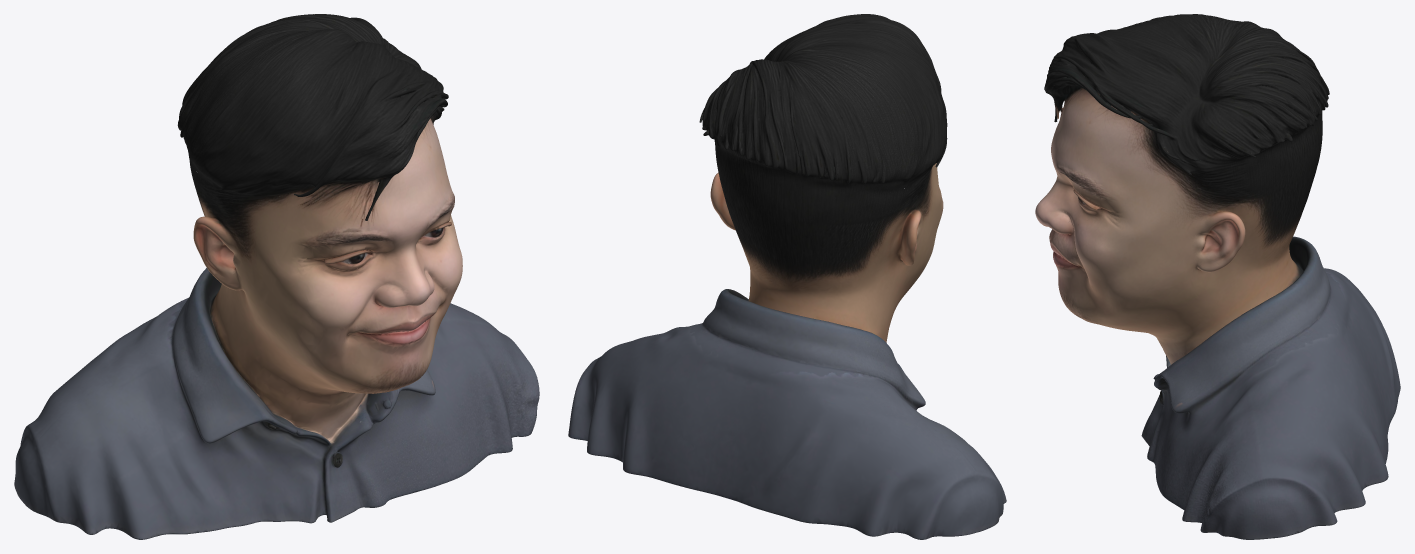
File: mark-headshot.glb
The picture shows the model from 3 angles, left to right: view 1: azimuth 30°, elevation 25°; view 2: azimuth 150°, elevation 25°; view 3: azimuth 270°, elevation 25°; orthographic projection. The views are drawn at different scales.
Visible parts, largest first — view 1: tripo_node_e540df64-d8e8-4c29-a4cd-a1805e1cffb5; view 2: tripo_node_e540df64-d8e8-4c29-a4cd-a1805e1cffb5; view 3: tripo_node_e540df64-d8e8-4c29-a4cd-a1805e1cffb5.
Boxes of the visible parts, x1,y1,x2,y2 form: tripo_node_e540df64-d8e8-4c29-a4cd-a1805e1cffb5: (14,14,539,539); tripo_node_e540df64-d8e8-4c29-a4cd-a1805e1cffb5: (568,14,1006,539); tripo_node_e540df64-d8e8-4c29-a4cd-a1805e1cffb5: (1035,14,1400,539).
Size of the model in its own units: 0.9865 by 0.8948 by 0.7095.
Materials: 1 (1 with a texture image).
